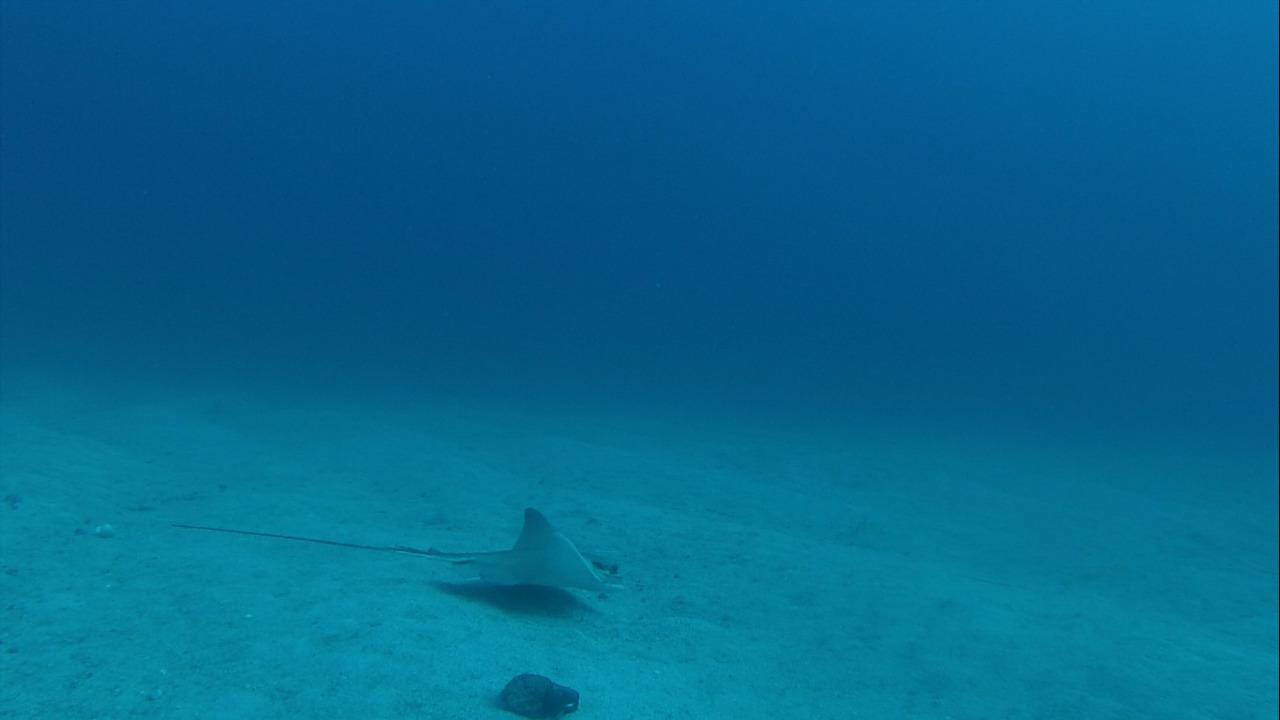myliobatis: (148, 497, 628, 611)
